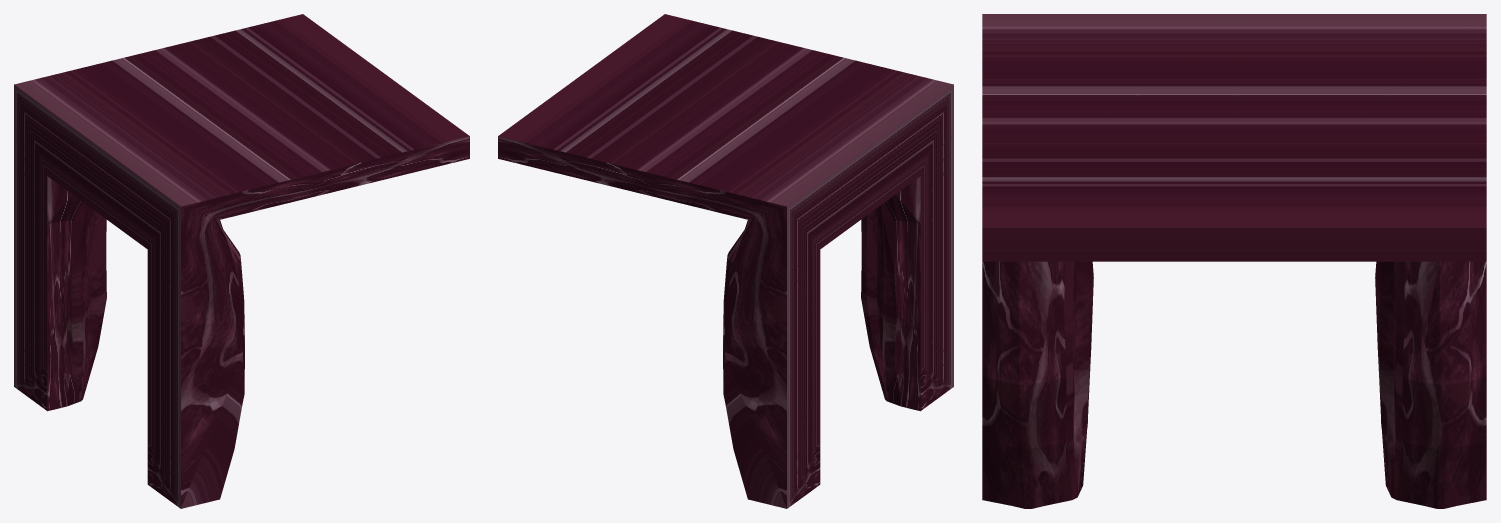
The model's file is EspacioPornoPuertaInteriorBajoNI.gltf.
3 views of the same model, side by side, from view 1: azimuth 30°, elevation 25°; view 2: azimuth 150°, elevation 25°; view 3: azimuth 270°, elevation 25° (orthographic). The views are drawn at different scales.
Parts seen in each view (by area): view 1: Cubo.1; view 2: Cubo.1; view 3: Cubo.1.
Boxes of the visible parts, box(x1,y1,x2,y2) form: Cubo.1: box(14, 14, 469, 508); Cubo.1: box(498, 14, 953, 508); Cubo.1: box(982, 14, 1486, 508).
Size of the model in its own units: 2 by 2 by 2.
Materials: 1 (1 with a texture image).
